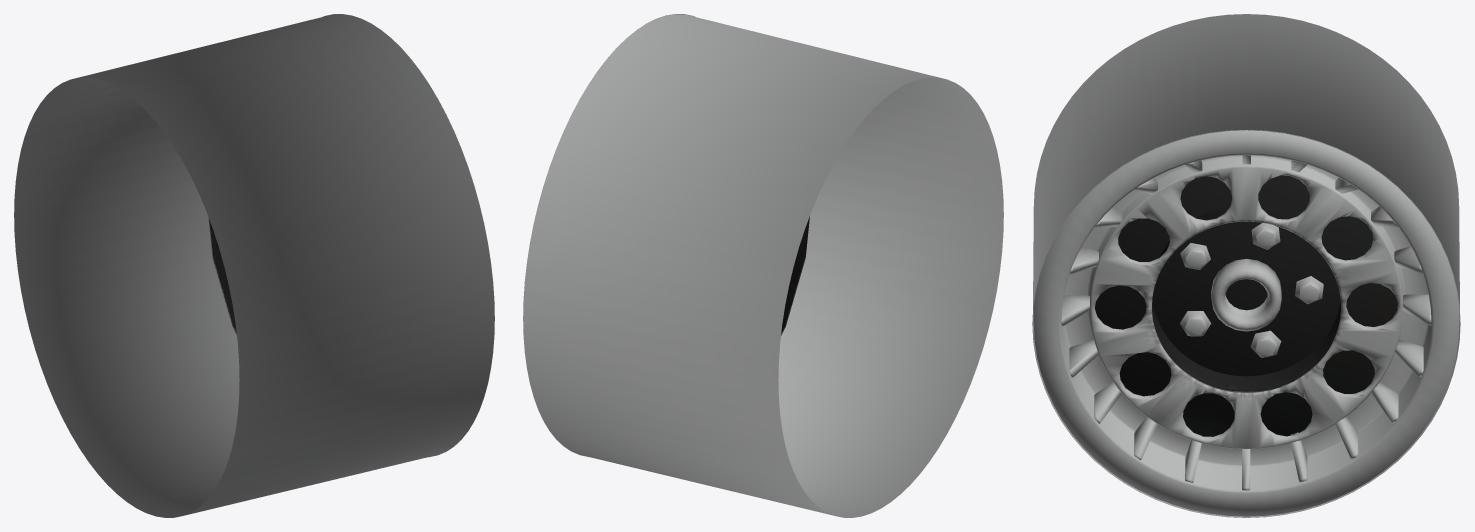
3 renders of one model, left to right at view 1: azimuth 30°, elevation 25°; view 2: azimuth 150°, elevation 25°; view 3: azimuth 270°, elevation 25°, orthographic. The views are drawn at different scales.
Visible parts, largest first — view 1: Hexa; view 2: Hexa; view 3: Hexa.
Boxes of the visible parts, left/top/right/bottom form: Hexa: left=14, top=14, right=494, bottom=517; Hexa: left=523, top=14, right=1003, bottom=517; Hexa: left=1032, top=14, right=1460, bottom=517.
Size of the model in its own units: 0.7685 by 1.19 by 1.19.
Materials: 1 (1 with a texture image).
